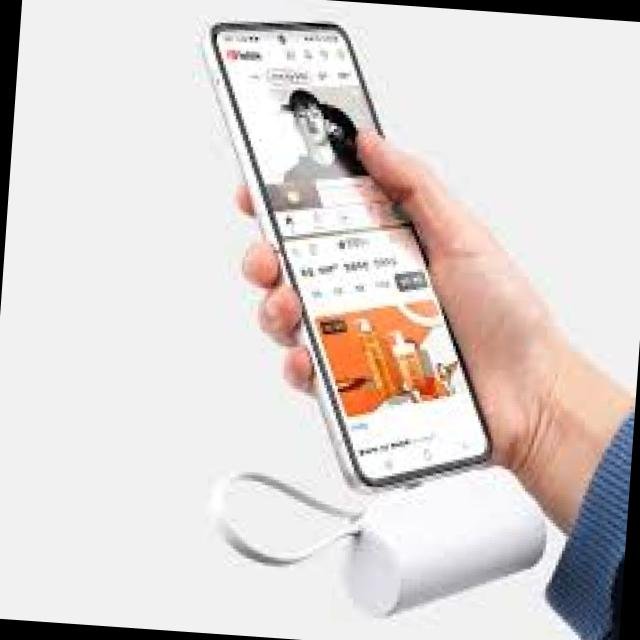portable-charger: (338, 457, 549, 633)
